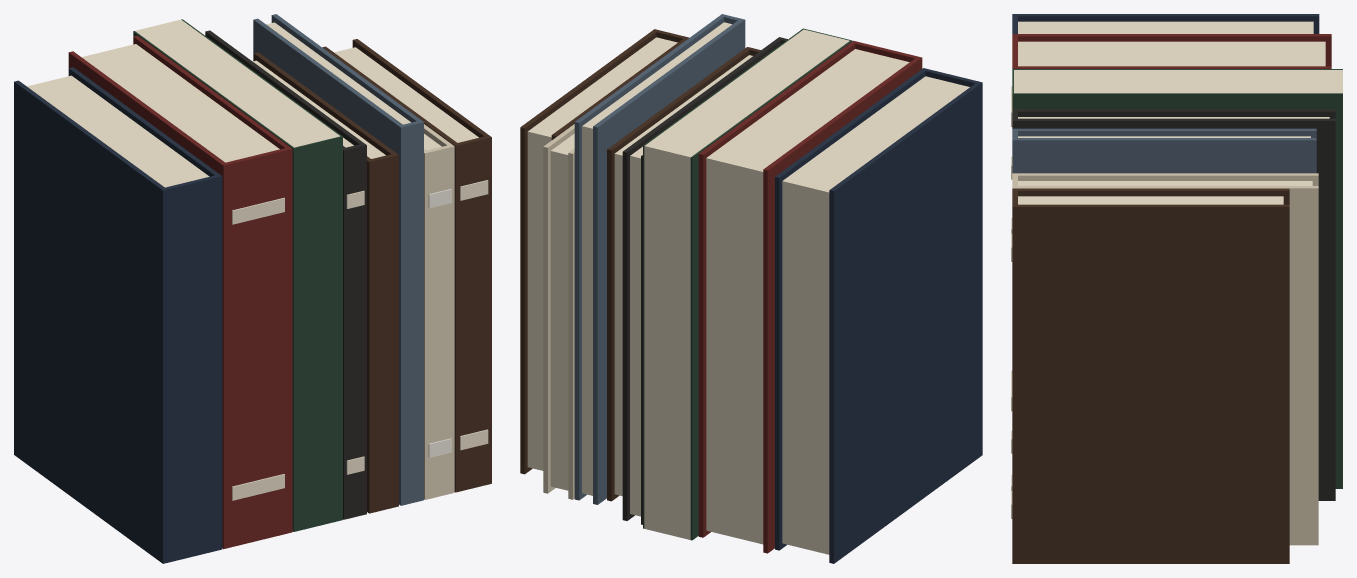
The picture shows the model from 3 angles, left to right: view 1: azimuth 30°, elevation 25°; view 2: azimuth 150°, elevation 25°; view 3: azimuth 270°, elevation 25°; orthographic projection. The views are drawn at different scales.
Visible parts, largest first — view 1: book, book.001, book.002, book.007, book.005, book.004, book.006, book.003; view 2: book, book.001, book.002, book.005, book.007, book.006, book.003, book.004; view 3: book.007, book.002, book.006, book.005, book.003, book.001, book.
Boxes of the visible parts, bbox=[...] form: book: bbox=[14, 67, 222, 563]; book.001: bbox=[68, 35, 292, 549]; book.002: bbox=[133, 19, 342, 531]; book.007: bbox=[322, 39, 491, 492]; book.005: bbox=[253, 14, 423, 505]; book.004: bbox=[253, 52, 398, 513]; book.006: bbox=[424, 124, 454, 499]; book.003: bbox=[205, 30, 366, 519]; book: bbox=[775, 68, 982, 563]; book.001: bbox=[698, 40, 922, 553]; book.002: bbox=[643, 28, 852, 540]; book.005: bbox=[574, 14, 745, 504]; book.007: bbox=[520, 29, 689, 474]; book.006: bbox=[543, 124, 574, 499]; book.003: bbox=[622, 37, 787, 524]; book.004: bbox=[607, 47, 760, 501]; book.007: bbox=[1011, 188, 1289, 563]; book.002: bbox=[1012, 69, 1342, 488]; book.006: bbox=[1011, 173, 1318, 545]; book.005: bbox=[1012, 128, 1316, 173]; book.003: bbox=[1011, 109, 1335, 500]; book.001: bbox=[1011, 34, 1331, 411]; book: bbox=[1012, 14, 1319, 33].
Size of the model in its own units: 0.1997 by 0.2225 by 0.1694.
